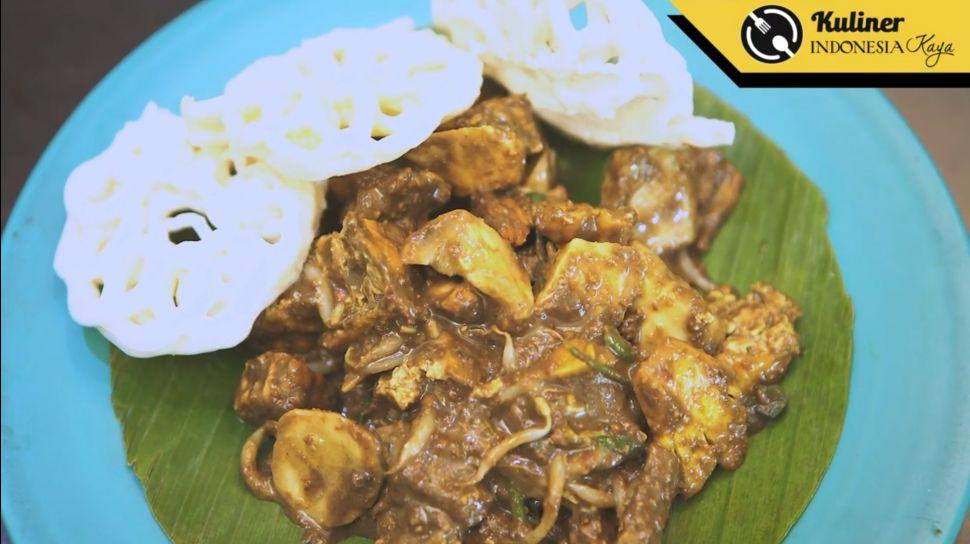rujak_cingur: (233, 101, 803, 544)
